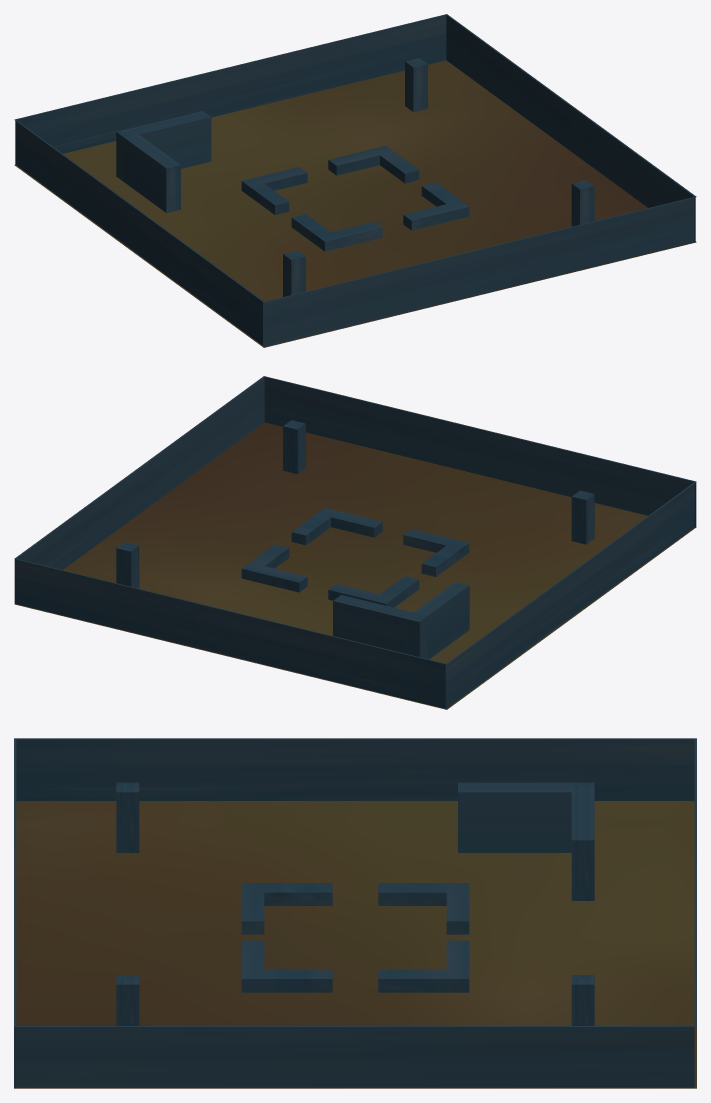
File: FactoryCollision.fbx
3 views of the same model, one above another, from view 1: azimuth 30°, elevation 25°; view 2: azimuth 150°, elevation 25°; view 3: azimuth 270°, elevation 25° (orthographic). The views are drawn at different scales.
Visible parts, largest first — view 1: Cube, 立方体.001, 立方体, 立方体.003, 立方体.002, 立方体.008, 立方体.007, 立方体.004, 立方体.006, 立方体.005; view 2: Cube, 立方体, 立方体.001, 立方体.003, 立方体.002, 立方体.008, 立方体.007, 立方体.005, 立方体.006, 立方体.004; view 3: Cube, 立方体.002, 立方体.003, 立方体.008, 立方体.007, 立方体.005, 立方体.004, 立方体.006, 立方体, 立方体.001.
Boxes of the visible parts, x1,y1,x2,y2 form: Cube: [14, 60, 696, 347]; 立方体.001: [263, 197, 694, 347]; 立方体: [16, 14, 447, 153]; 立方体.003: [14, 119, 263, 345]; 立方体.002: [446, 14, 696, 242]; 立方体.008: [241, 146, 469, 251]; 立方体.007: [116, 111, 211, 212]; 立方体.004: [405, 58, 427, 111]; 立方体.006: [571, 180, 594, 226]; 立方体.005: [283, 250, 305, 296]; Cube: [14, 422, 695, 709]; 立方体: [14, 558, 445, 708]; 立方体.001: [264, 376, 696, 527]; 立方体.003: [445, 482, 695, 708]; 立方体.002: [15, 376, 264, 569]; 立方体.008: [241, 508, 469, 607]; 立方体.007: [333, 582, 469, 659]; 立方体.005: [571, 490, 594, 544]; 立方体.006: [283, 420, 305, 473]; 立方体.004: [116, 542, 139, 588]; Cube: [14, 801, 696, 1088]; 立方体.002: [14, 1026, 694, 1087]; 立方体.003: [16, 738, 696, 800]; 立方体.008: [241, 883, 469, 992]; 立方体.007: [458, 782, 594, 900]; 立方体.005: [116, 782, 139, 852]; 立方体.004: [571, 975, 594, 1025]; 立方体.006: [116, 975, 139, 1025]; 立方体: [694, 739, 696, 1026]; 立方体.001: [14, 738, 16, 1025].
Size of the model in its own units: 600 by 61 by 600.
